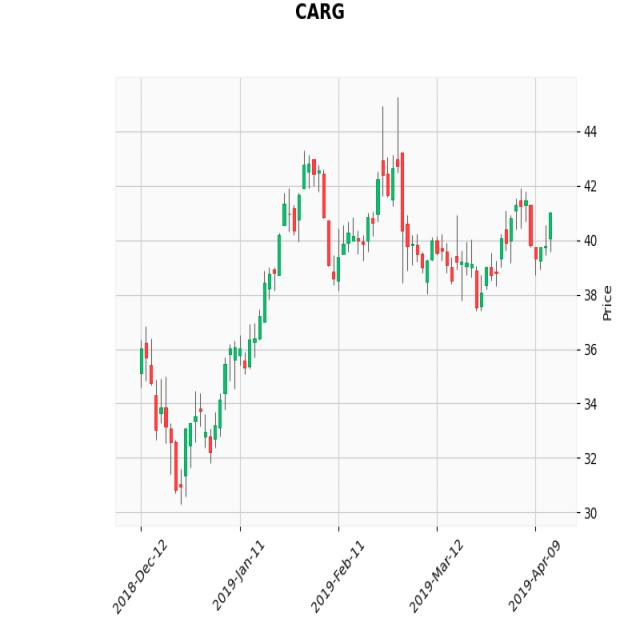Double-Top: (274, 141, 418, 299)
